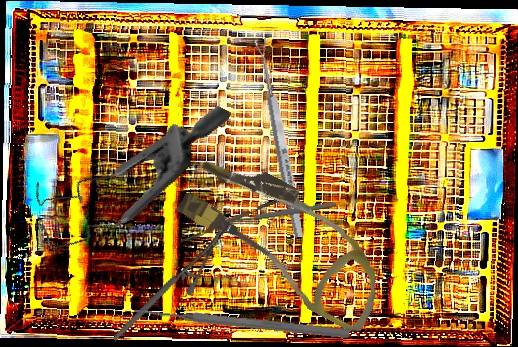Cannula: (164, 143, 406, 336)
Chopper: (170, 198, 281, 252)
Needle Holder: (89, 224, 250, 342)
Pusher: (131, 303, 351, 341)
Speculum: (14, 49, 232, 293)
Surgical Spoon: (253, 37, 307, 239), (218, 200, 338, 227)
